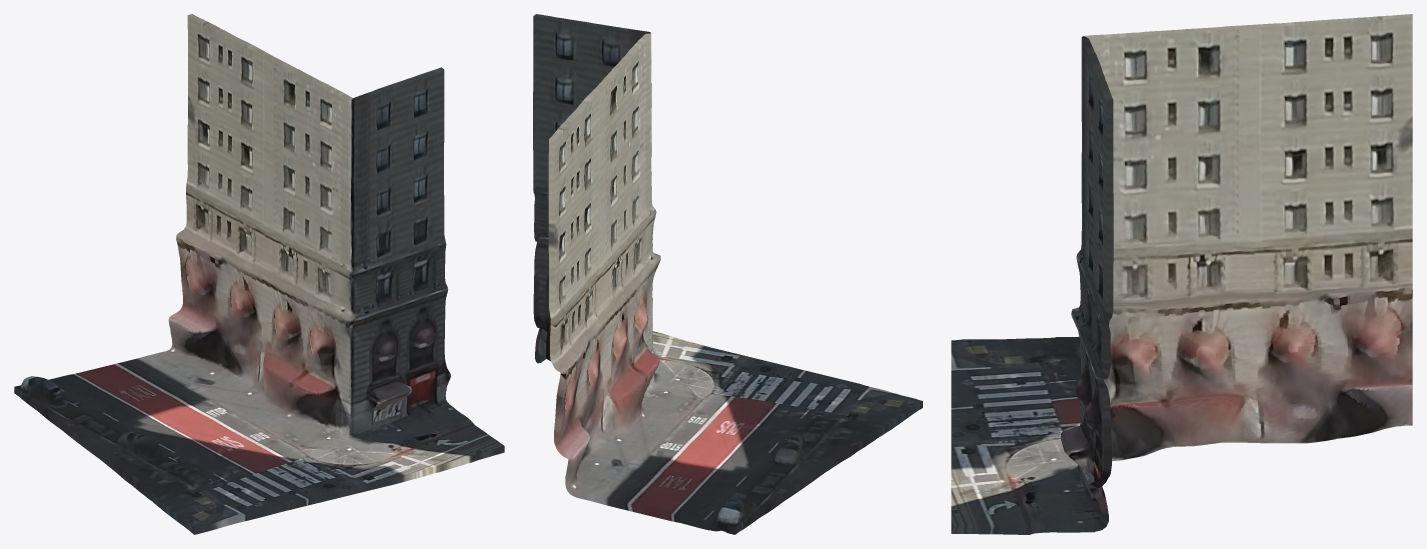
File: z20-167747-405250-h0-yup-uvflip-v3-world.glb
3 views of the same model, side by side, from view 1: azimuth 30°, elevation 25°; view 2: azimuth 150°, elevation 25°; view 3: azimuth 270°, elevation 25° (orthographic). The views are drawn at different scales.
Bounding box in the file's own units: 30.16 × 32.12 × 30.32.
1 material, 1 textured.
